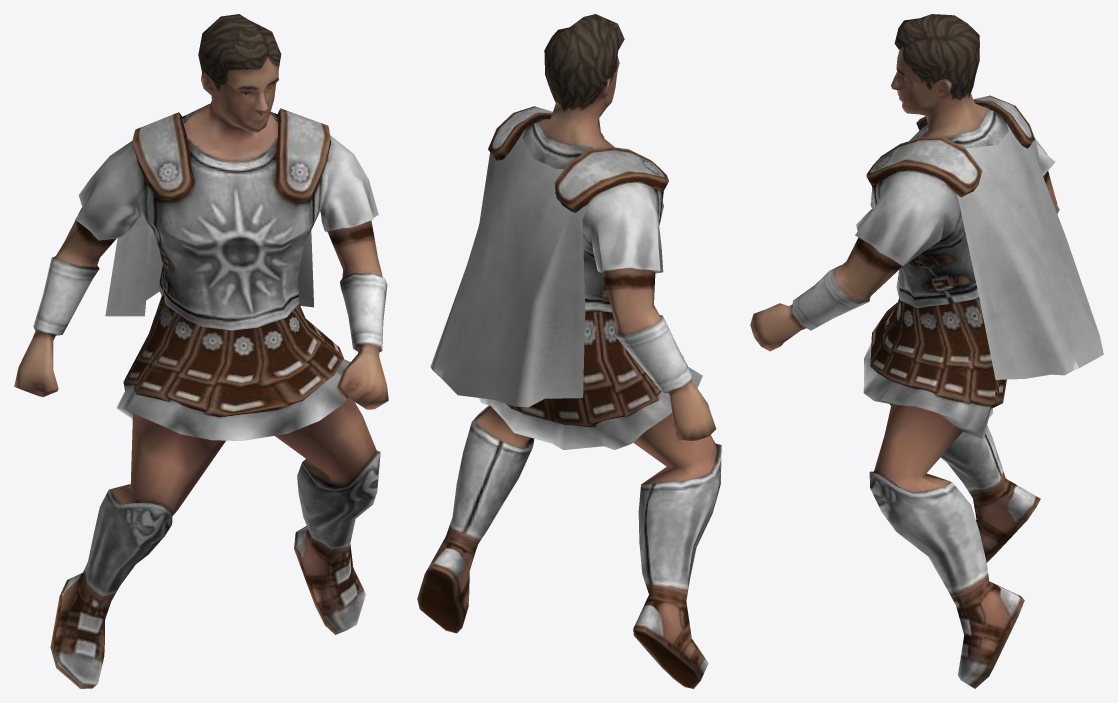
The model's file is rider-slice-championcavalry.glb.
3 views of the same model, side by side, from view 1: azimuth 30°, elevation 25°; view 2: azimuth 150°, elevation 25°; view 3: azimuth 270°, elevation 25° (orthographic). The views are drawn at different scales.
Size of the model in its own units: 1.08 by 2.08 by 1.09.
1 material, 1 textured.
